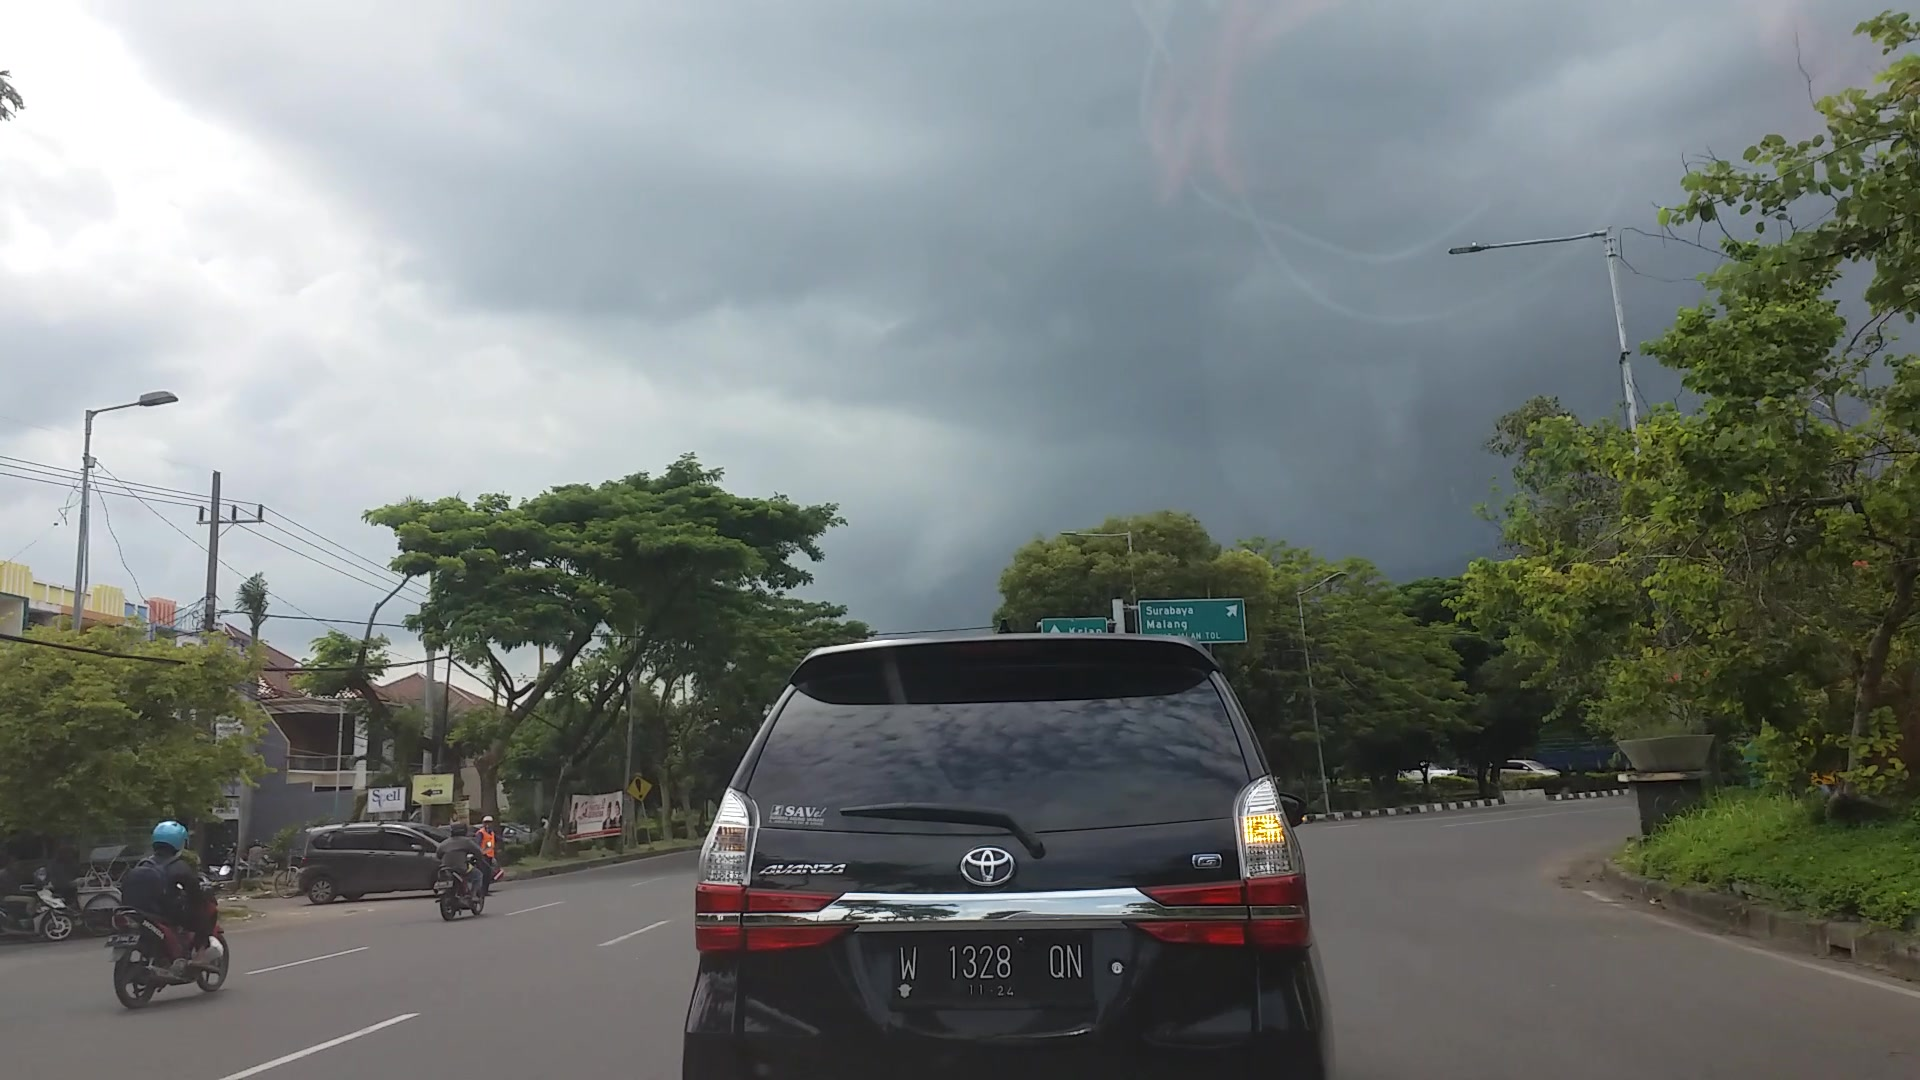plate_positive: (887, 928, 1095, 1011)
